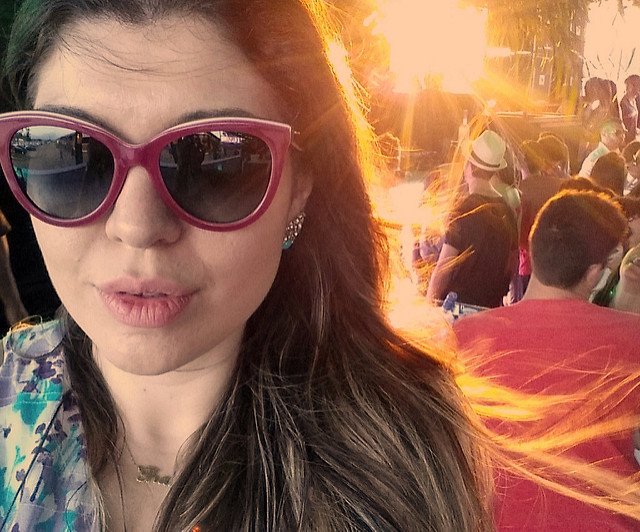sunglasses: (1, 104, 287, 211)
